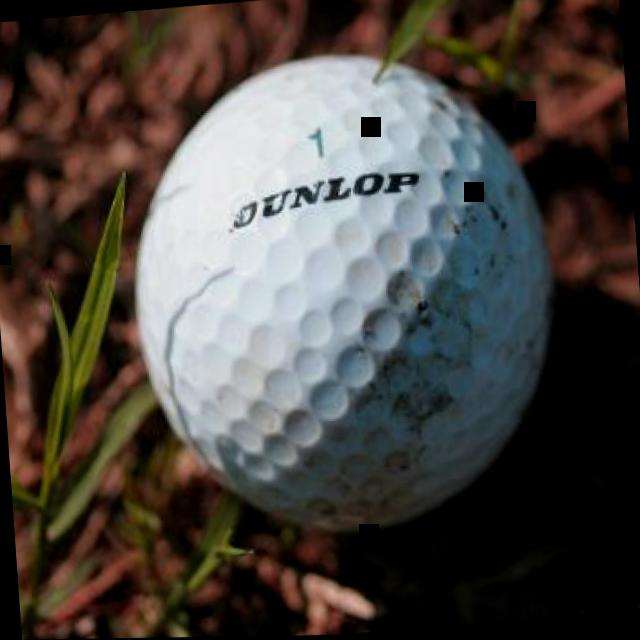golf ball: (107, 26, 578, 556)
